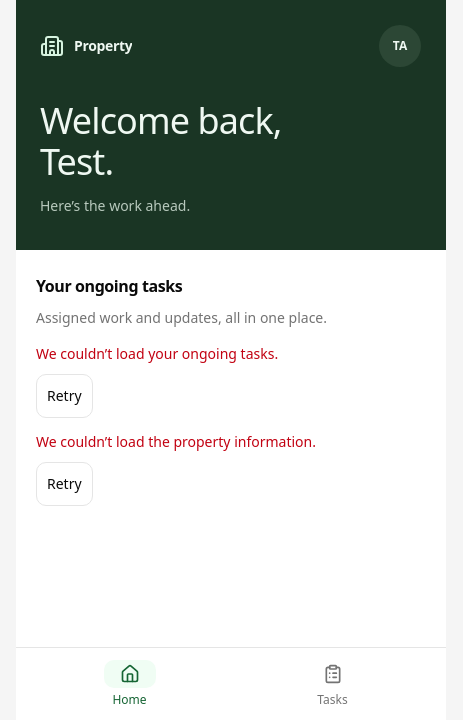
Test: renders only the permitted portal and account identity for TECHNICIAN
This screenshot has width=463, height=720.
Click the link "TA". click: (400, 46)
box: [378,24,422,68]
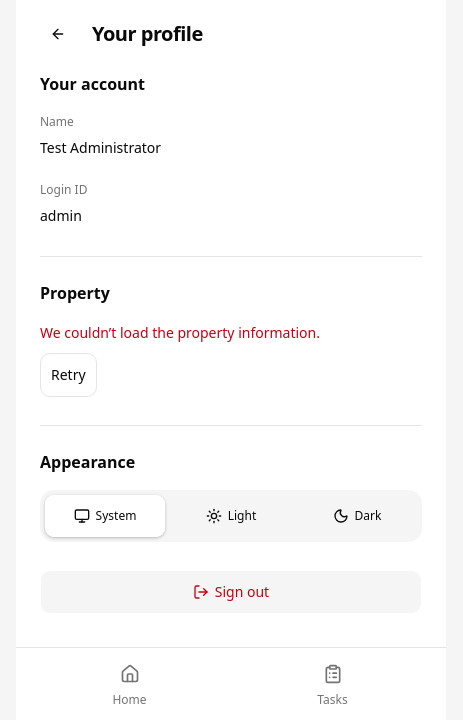
Now the heading "Your profile" is shown, box [92,20,203,48]
Now the text "admin" is shown, box [40,206,82,225]
Now the button "Sign out" is shown, box [40,570,422,614]
